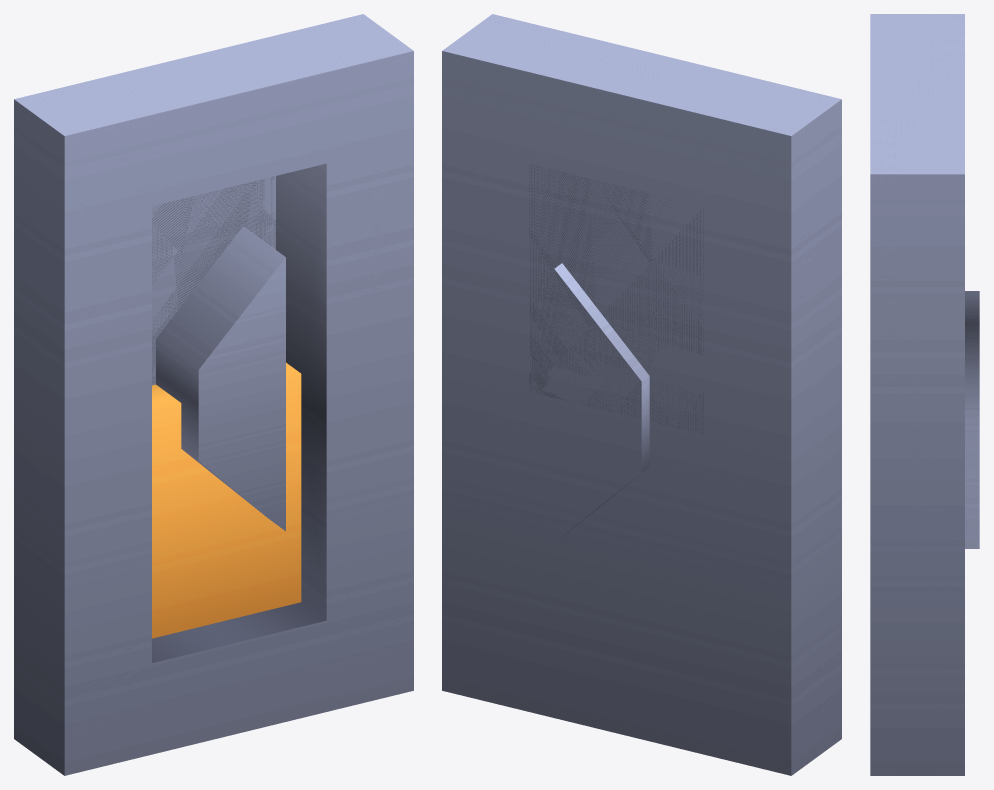
File: door-single-closed.glb
3 renders of one model, left to right at view 1: azimuth 30°, elevation 25°; view 2: azimuth 150°, elevation 25°; view 3: azimuth 270°, elevation 25°, orthographic. The views are drawn at different scales.
Parts seen in each view (by area): view 1: door-single-closed, door-single-closed.001; view 2: door-single-closed, door-single-closed.001; view 3: door-single-closed, door-single-closed.001.
Part boxes in pixels (box(x1,y1,x2,y2)): door-single-closed: box(14, 14, 413, 775); door-single-closed.001: box(156, 226, 285, 531); door-single-closed: box(442, 14, 841, 775); door-single-closed.001: box(554, 263, 649, 540); door-single-closed: box(870, 14, 964, 775); door-single-closed.001: box(965, 291, 979, 548).
Size of the model in its own units: 1.2 by 2.1 by 0.3469.
1 material, 1 textured.
